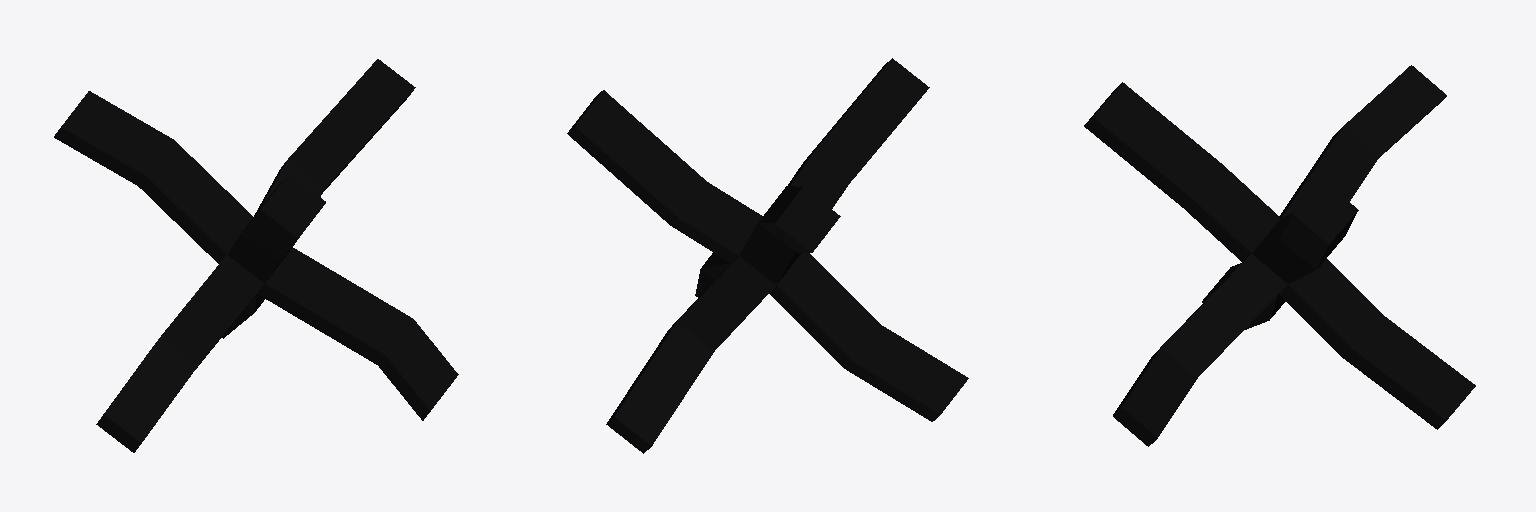
Rendered from Barrier_3.obj.
3 views of the same model, side by side, from view 1: azimuth 30°, elevation 25°; view 2: azimuth 150°, elevation 25°; view 3: azimuth 270°, elevation 25° (orthographic).
Parts seen in each view (by area): view 1: Cube.001_Cube.000; view 2: Cube.001_Cube.000; view 3: Cube.001_Cube.000.
Boxes of the visible parts, x1,y1,x2,y2 form: Cube.001_Cube.000: [54, 59, 458, 452]; Cube.001_Cube.000: [567, 58, 968, 453]; Cube.001_Cube.000: [1084, 65, 1475, 446].
Bounding box in the file's own units: 0.4612 × 0.3783 × 0.4439.